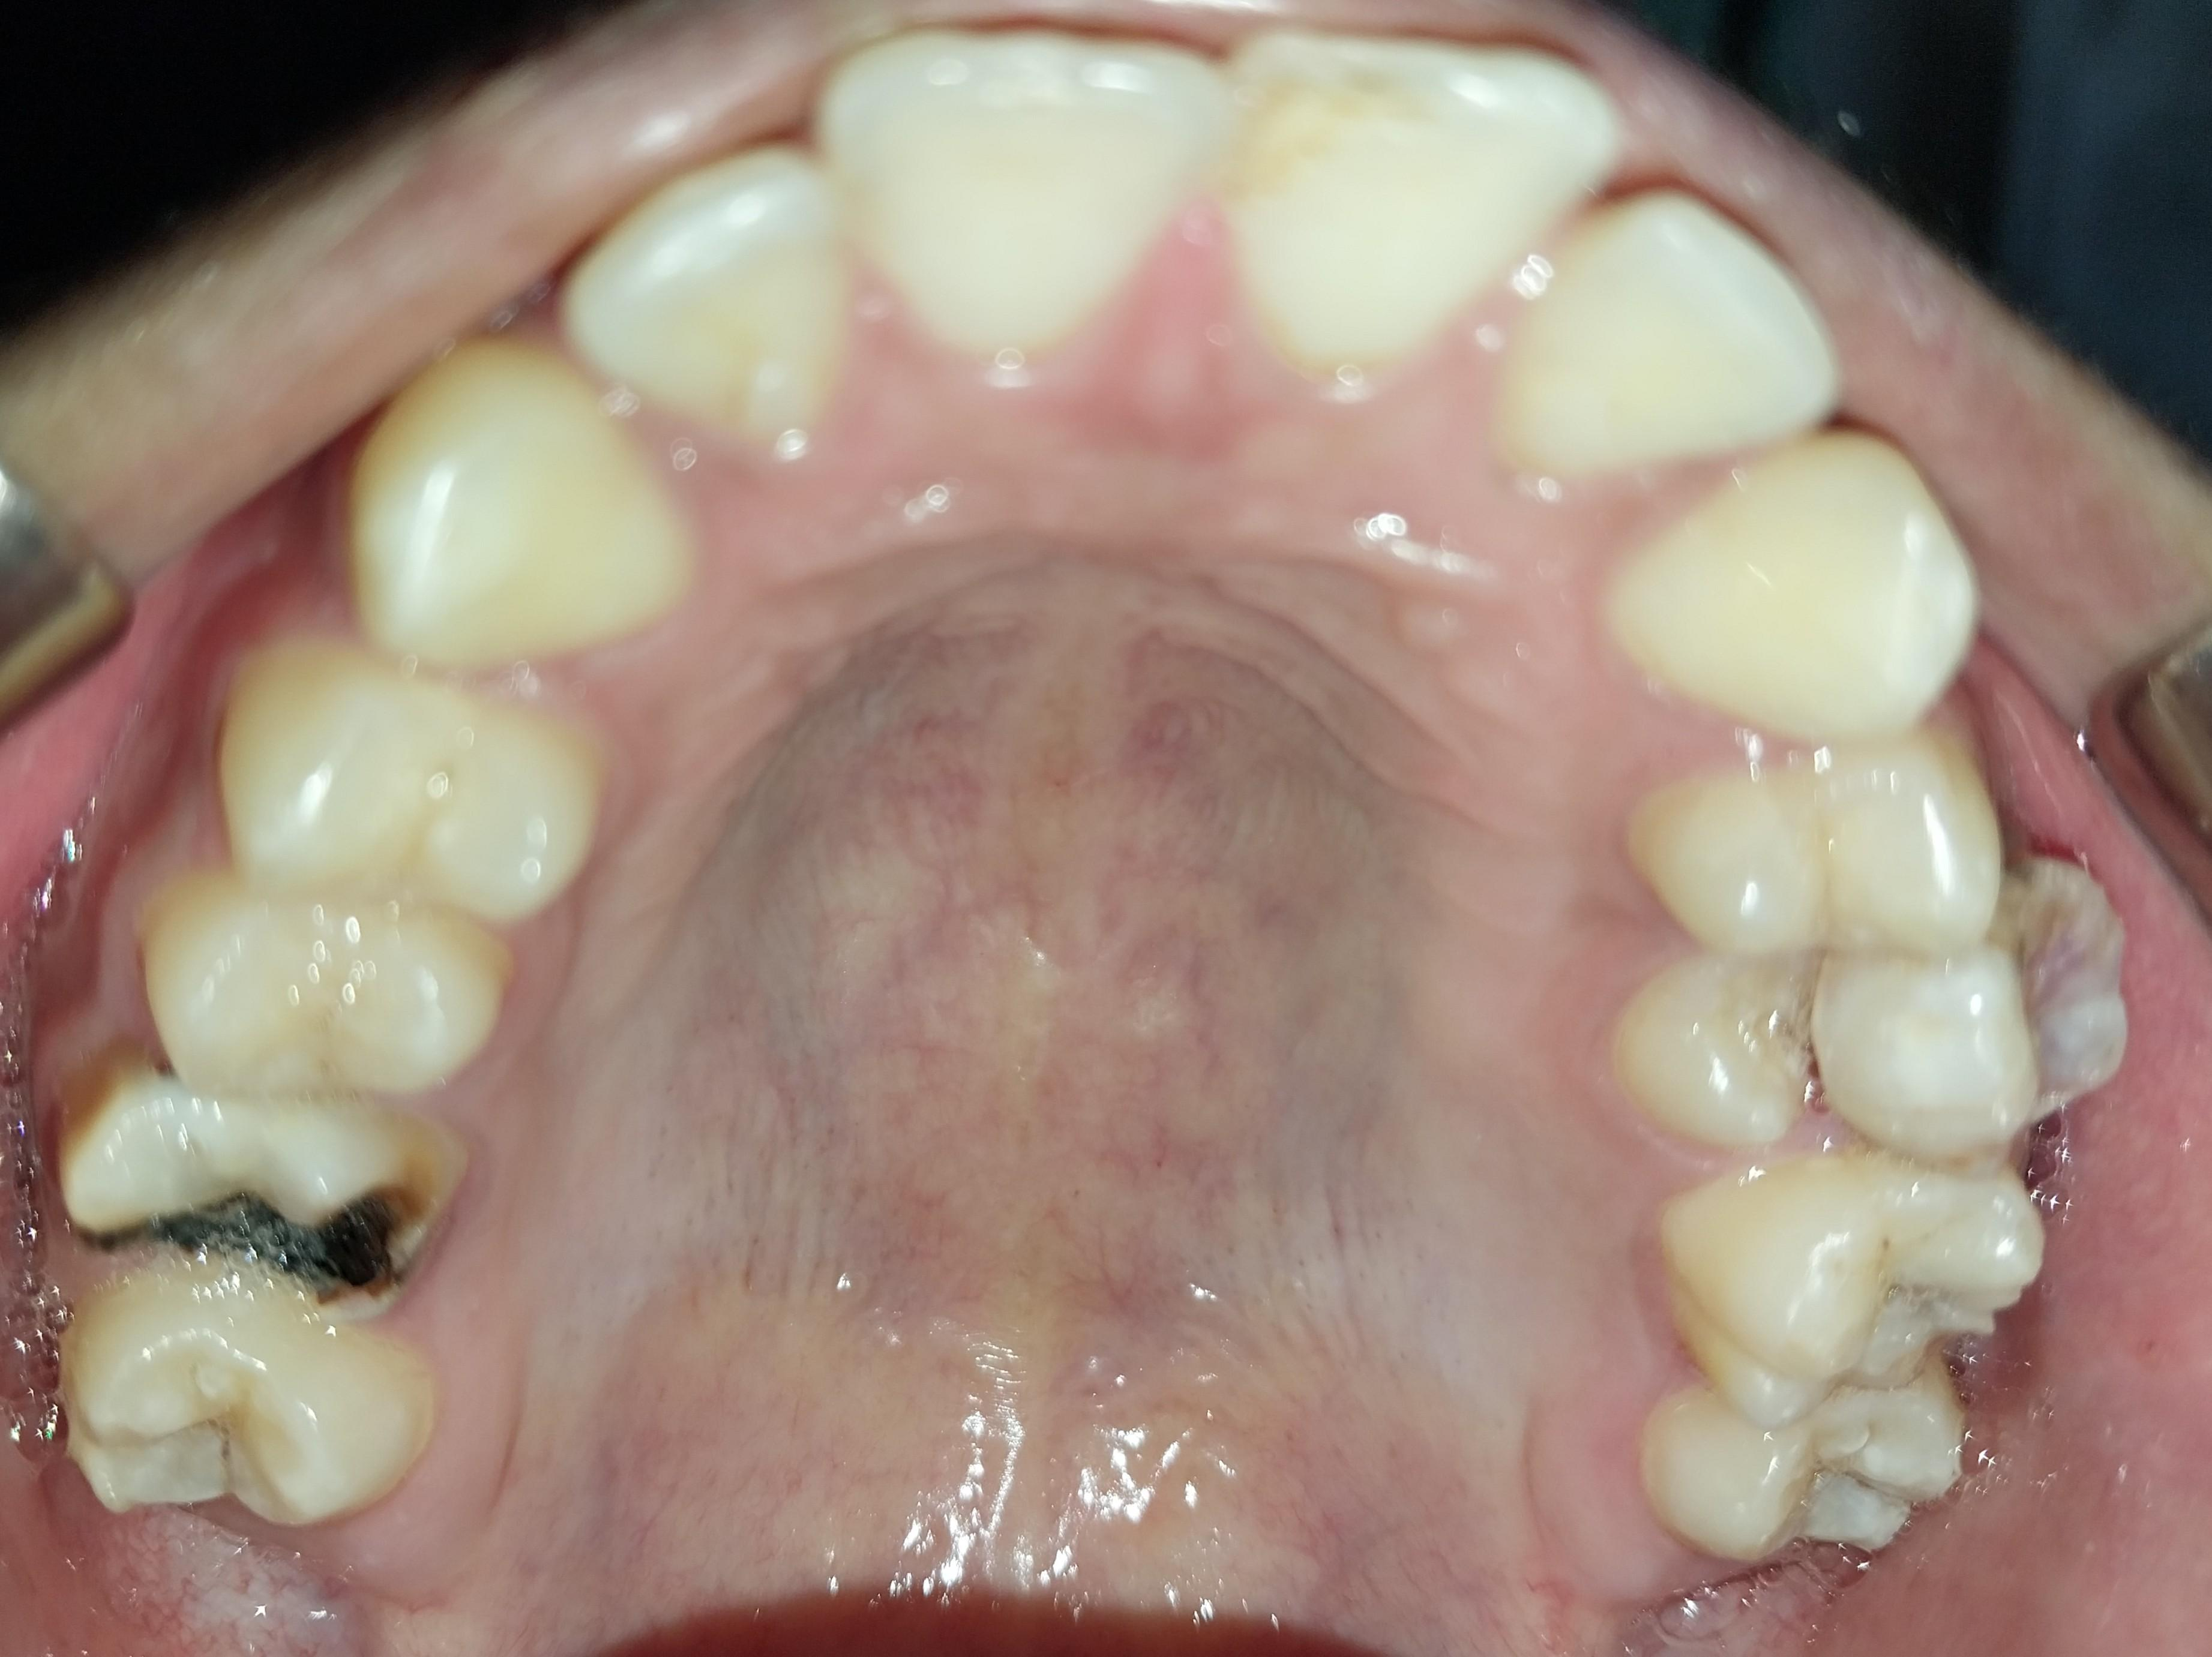D: (60, 1034, 466, 1354)
d: (1812, 891, 2149, 1165)
